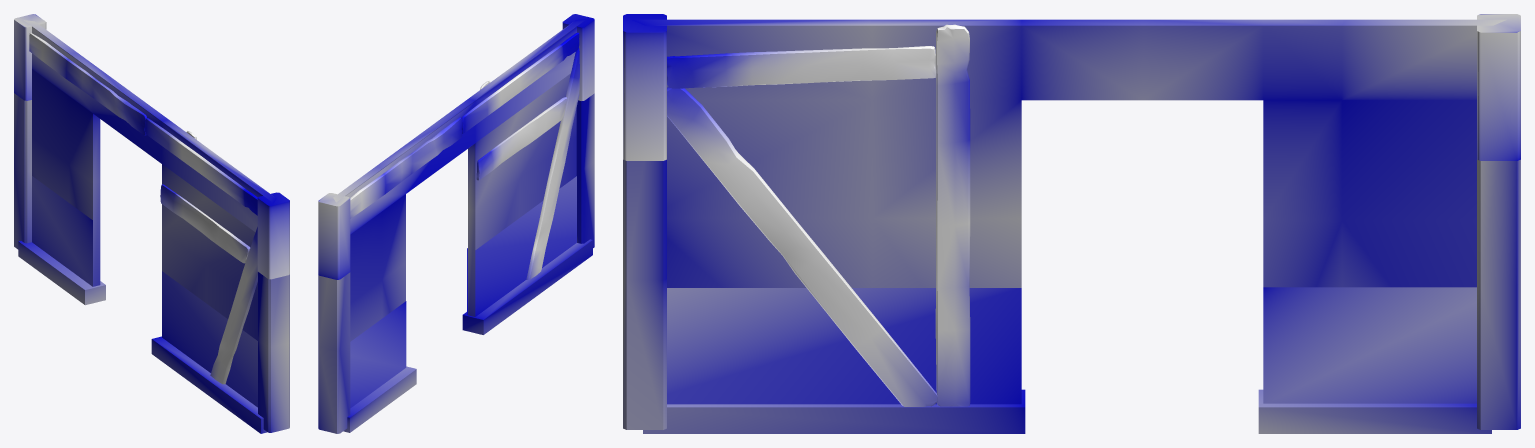
File: SM_ShackFront6m_01.fbx
3 renders of one model, left to right at view 1: azimuth 30°, elevation 25°; view 2: azimuth 150°, elevation 25°; view 3: azimuth 270°, elevation 25°, orthographic. The views are drawn at different scales.
Parts seen in each view (by area): view 1: SM_ShackFront6m_01_LOD0; view 2: SM_ShackFront6m_01_LOD0; view 3: SM_ShackFront6m_01_LOD0.
Part boxes in pixels (box(x1,y1,x2,y2)): SM_ShackFront6m_01_LOD0: box(14, 14, 289, 433); SM_ShackFront6m_01_LOD0: box(318, 14, 594, 433); SM_ShackFront6m_01_LOD0: box(623, 14, 1520, 433).
Bounding box in the file's own units: 33.84 × 614 × 309.
